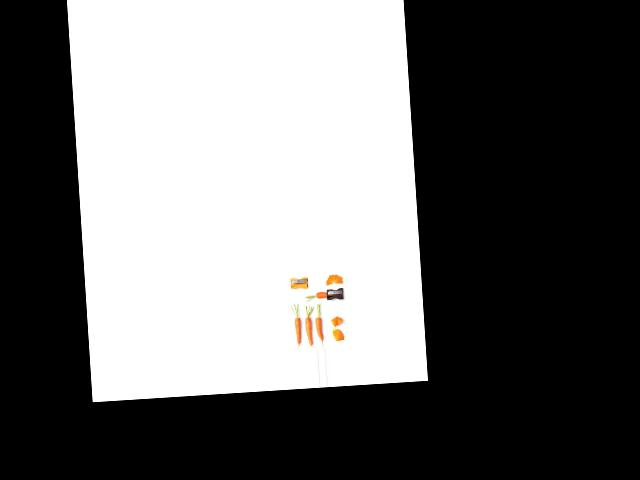carrot: (311, 313, 327, 343)
